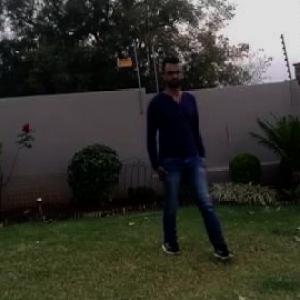follow: (130, 53, 200, 258)
